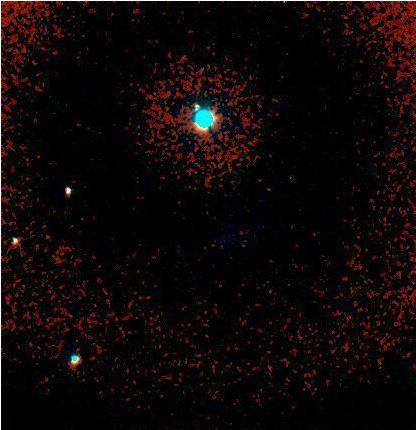star: (279, 162, 309, 192)
